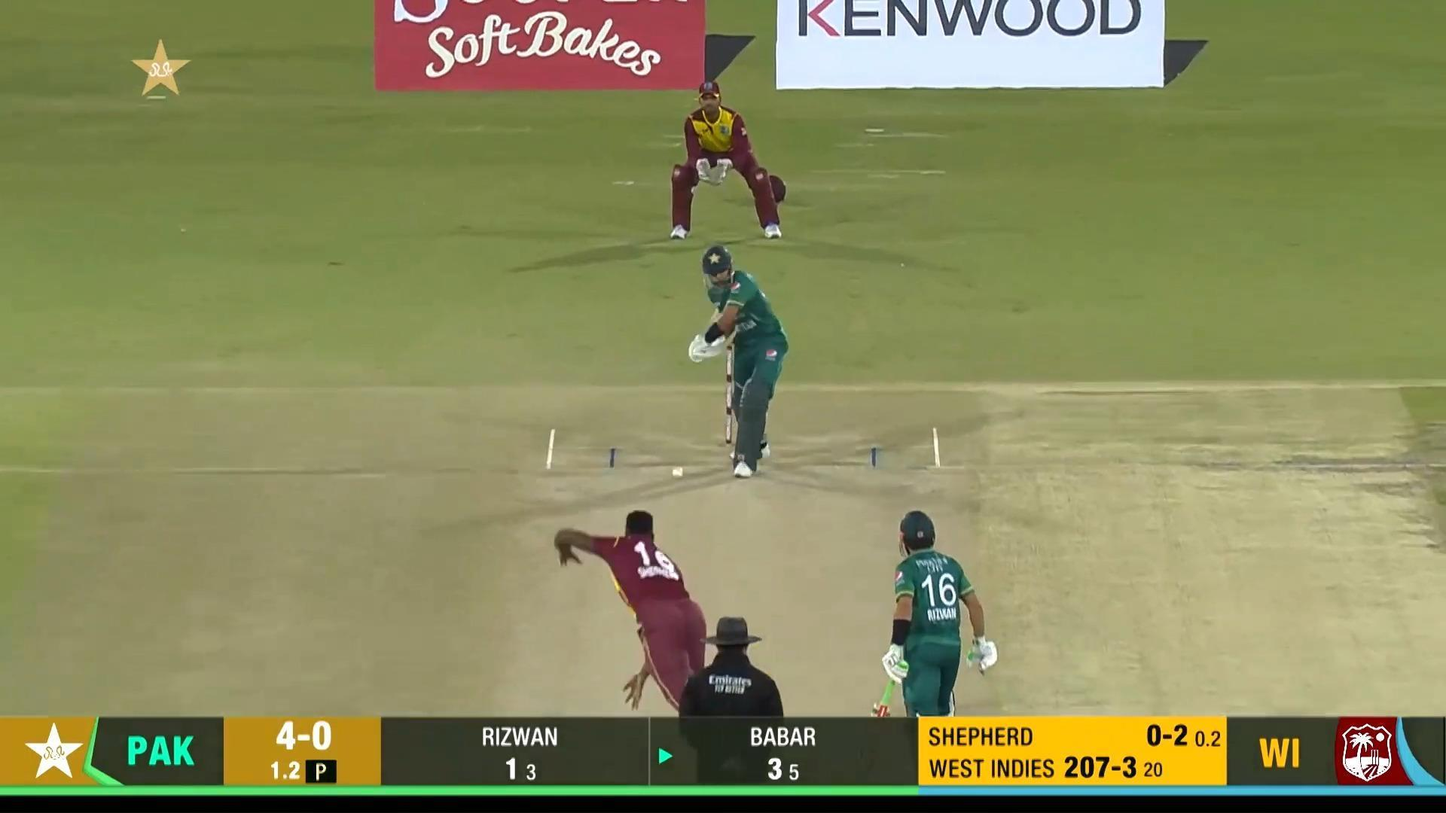BM 1: (688, 244, 790, 480)
BO: (882, 506, 1000, 789)
